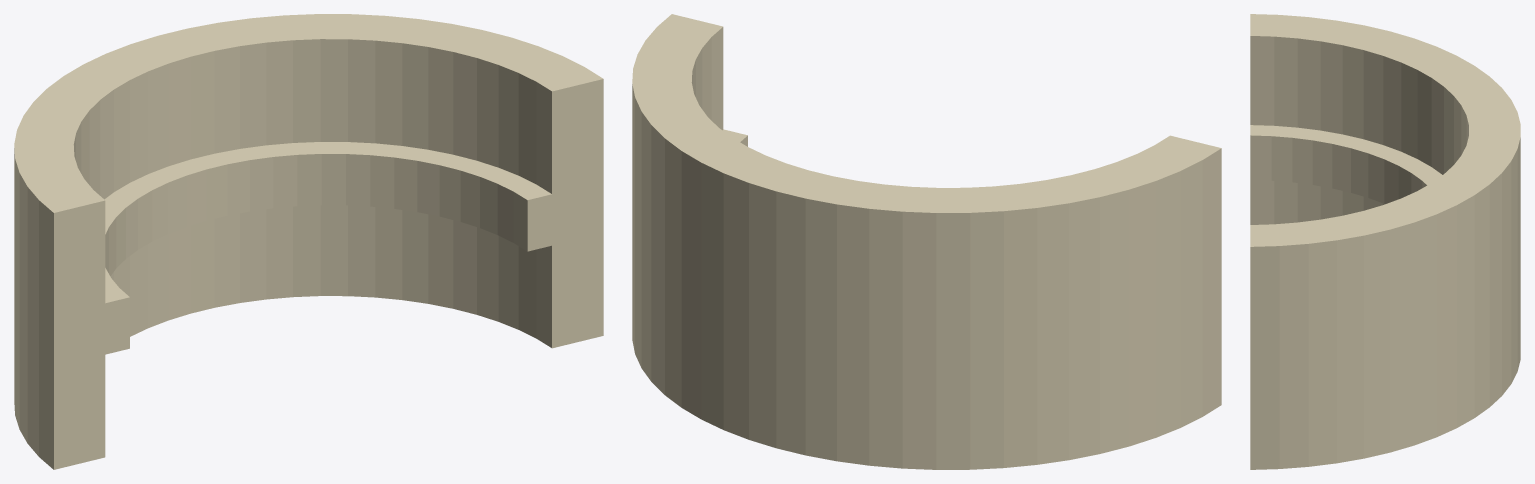
Rendered from valve-keeper.glb.
3 views of the same model, side by side, from view 1: azimuth 30°, elevation 25°; view 2: azimuth 150°, elevation 25°; view 3: azimuth 270°, elevation 25° (orthographic). The views are drawn at different scales.
Visible parts, largest first — view 1: world; view 2: world; view 3: world.
Part boxes in pixels (x1,y1,x2,y2): world: [14, 14, 603, 469]; world: [632, 14, 1221, 469]; world: [1250, 14, 1520, 469].
Bounding box in the file's own units: 0.0112 × 0.005 × 0.00549.
